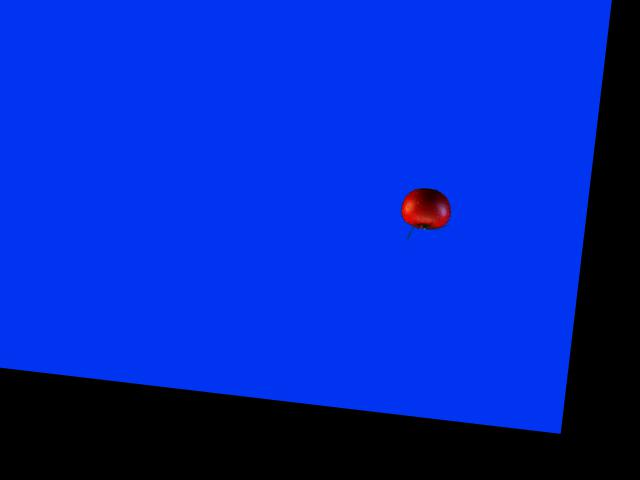tomato: (400, 185, 453, 231)
